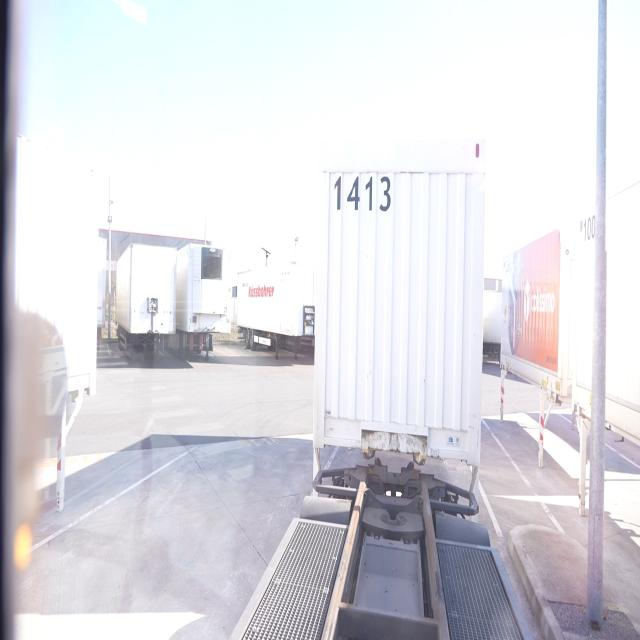Code: (331, 167, 394, 216)
